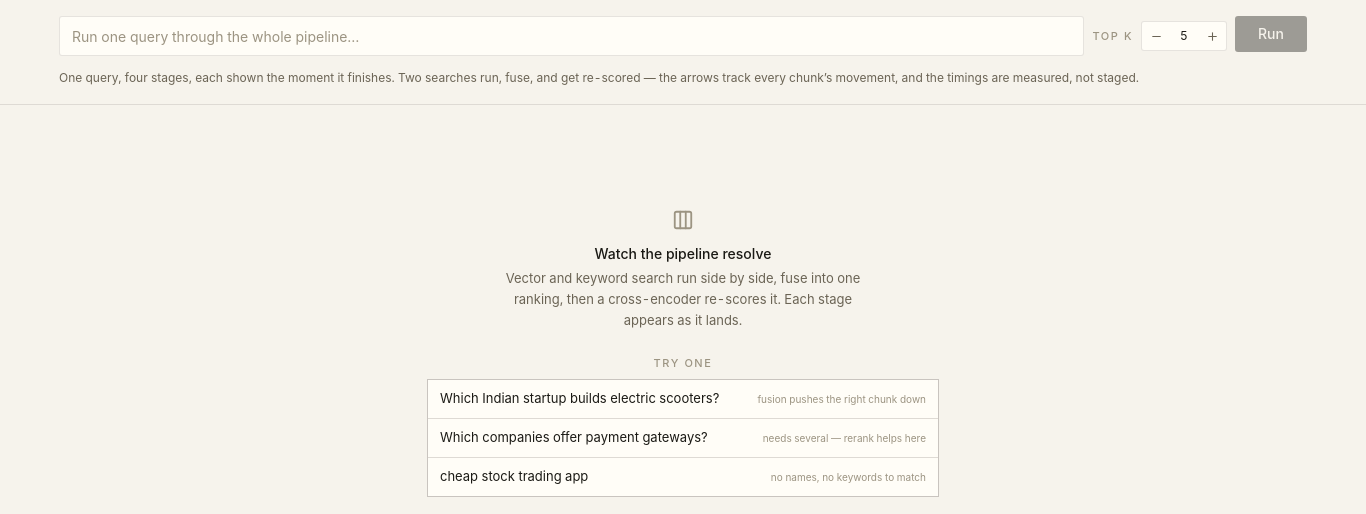
Scenario: LabView › reports a failure instead of leaving the columns waiting forever
Click the button "Which Indian startup builds electric scooters". click: {"x": 683, "y": 399}
box: [428,380,938,418]
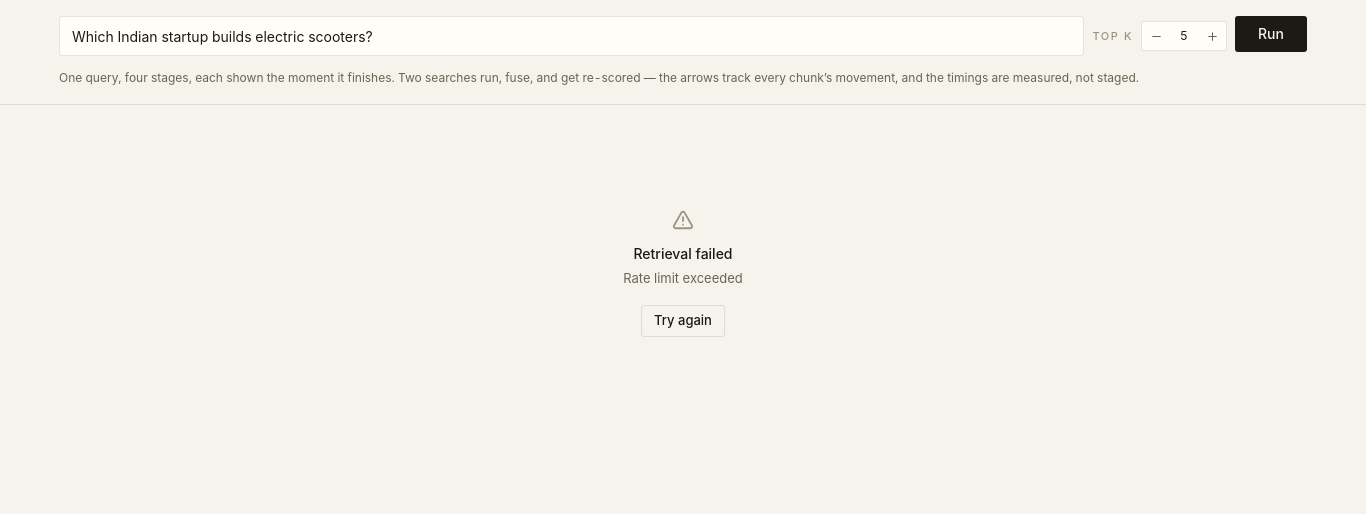
Result: the text "Retrieval failed" is shown at [634,242,732,264]
Result: the text "Rate limit exceeded" is shown at [623,268,743,289]
